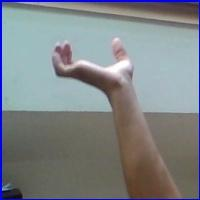B: (49, 33, 141, 93)
